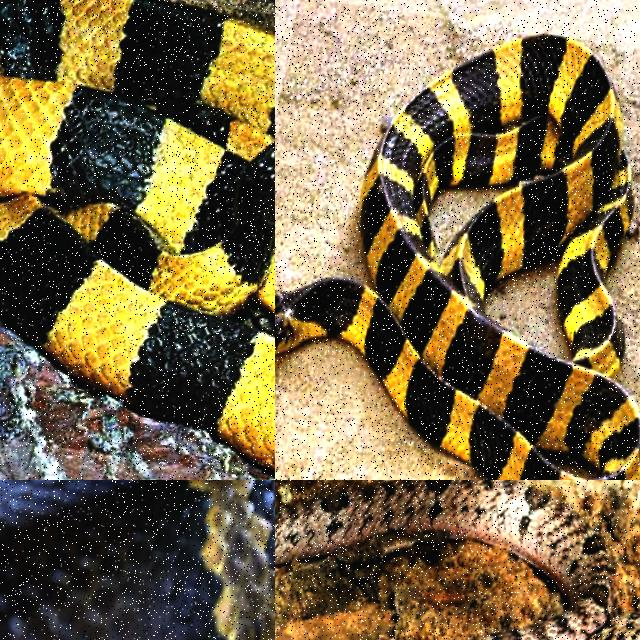Bungarus fasciatus: (275, 35, 639, 479), (0, 0, 274, 471)
Calloselasma rhodostoma: (275, 480, 639, 639)
Python bivittatus: (0, 480, 274, 639)
